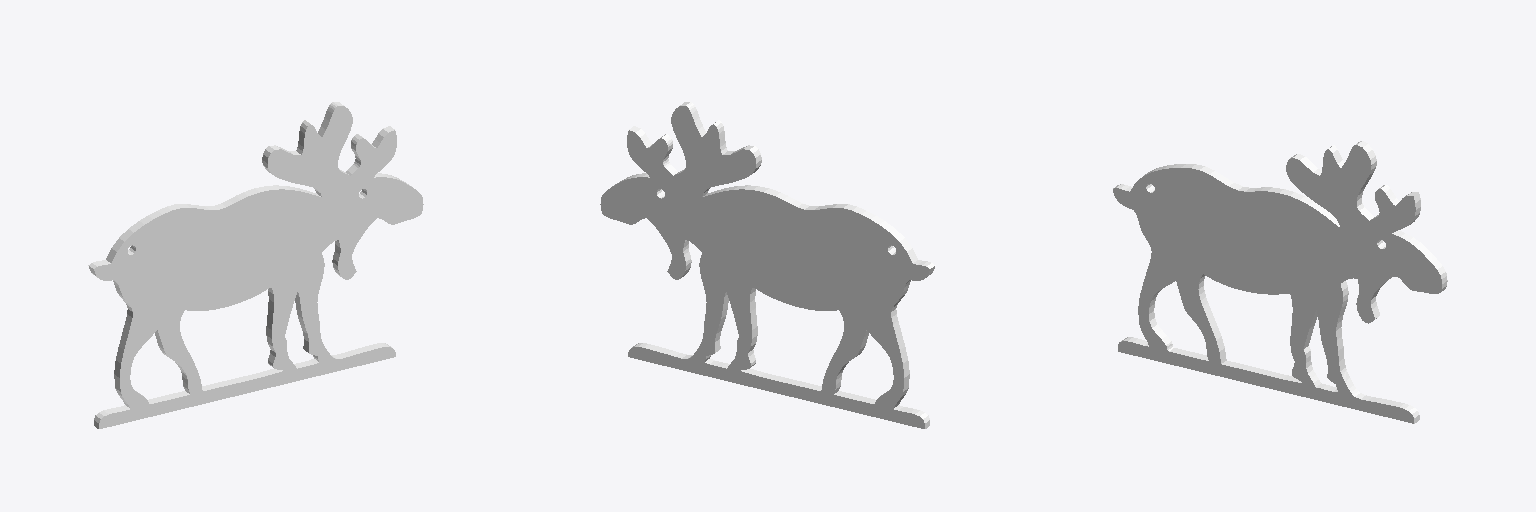
Rendered from Moose_thin.obj.
3 renders of one model, left to right at view 1: azimuth 30°, elevation 25°; view 2: azimuth 150°, elevation 25°; view 3: azimuth 330°, elevation 25°, orthographic.
Parts seen in each view (by area): view 1: <STL_BINARY>; view 2: <STL_BINARY>; view 3: <STL_BINARY>.
Part boxes in pixels (x1,y1,x2,y2): <STL_BINARY>: (88, 102, 423, 428); <STL_BINARY>: (600, 102, 935, 428); <STL_BINARY>: (1113, 141, 1447, 423).
Bounding box in the file's own units: 73.5 × 56.5 × 2.1.